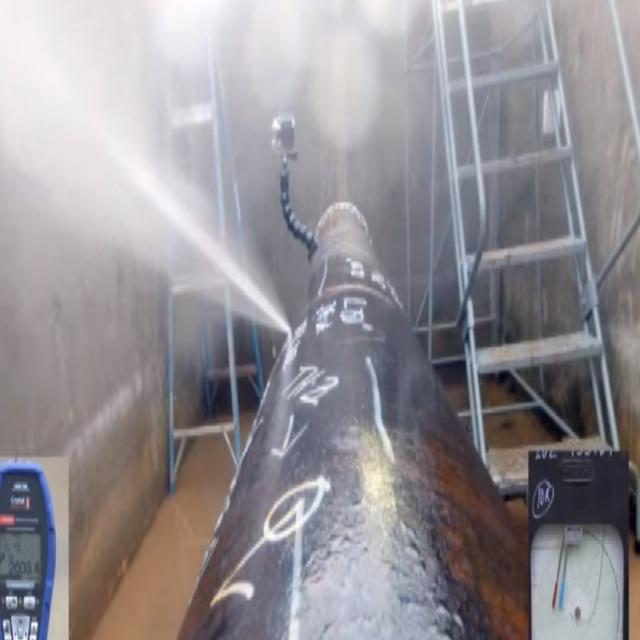leak: (106, 139, 290, 334)
